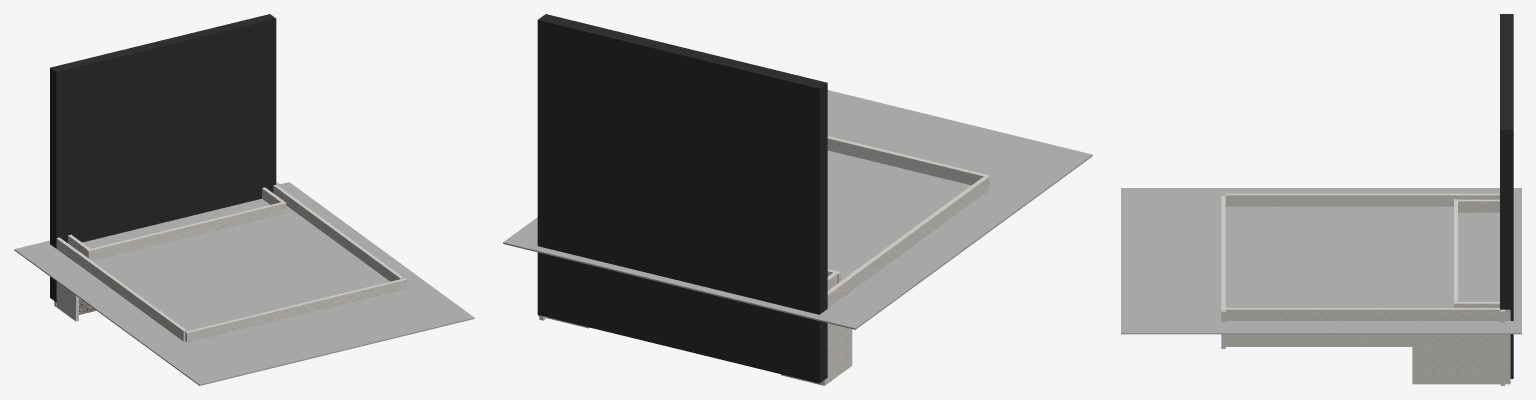
The model's file is JJ_WallsV1.fbx.
3 views of the same model, side by side, from view 1: azimuth 30°, elevation 25°; view 2: azimuth 150°, elevation 25°; view 3: azimuth 270°, elevation 25° (orthographic). The views are drawn at different scales.
Visible parts, largest first — view 1: MainWall; view 2: MainWall; view 3: MainWall.
Part boxes in pixels (left/top/right/bottom): MainWall: left=14, top=14, right=474, bottom=385; MainWall: left=503, top=14, right=1092, bottom=385; MainWall: left=1121, top=14, right=1521, bottom=385.
Bounding box in the file's own units: 250 × 204 × 292.
2 materials, 1 textured.
